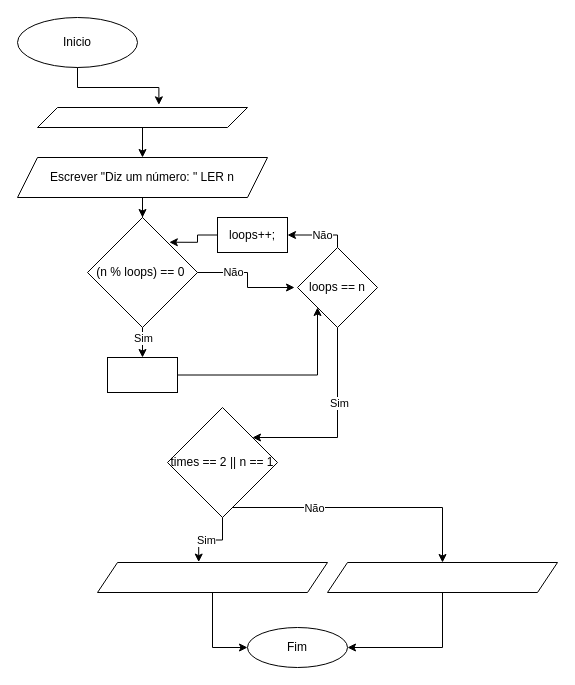
The diagram is 575 pixels wide and 685 high, and some of its shapes have lost their labels. The box of each missing label's shape, as (x1, y1, x2, y2) in pixels:
Escrever "O número não é primo!": (326, 562, 558, 592)
Escrever "O número é primo!": (96, 562, 328, 592)
LER n = 0, loops = 1, times = 0: (36, 106, 248, 128)
times++;: (106, 356, 178, 392)
